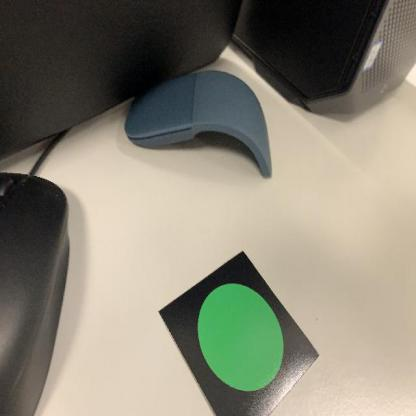go: (156, 248, 325, 415)
